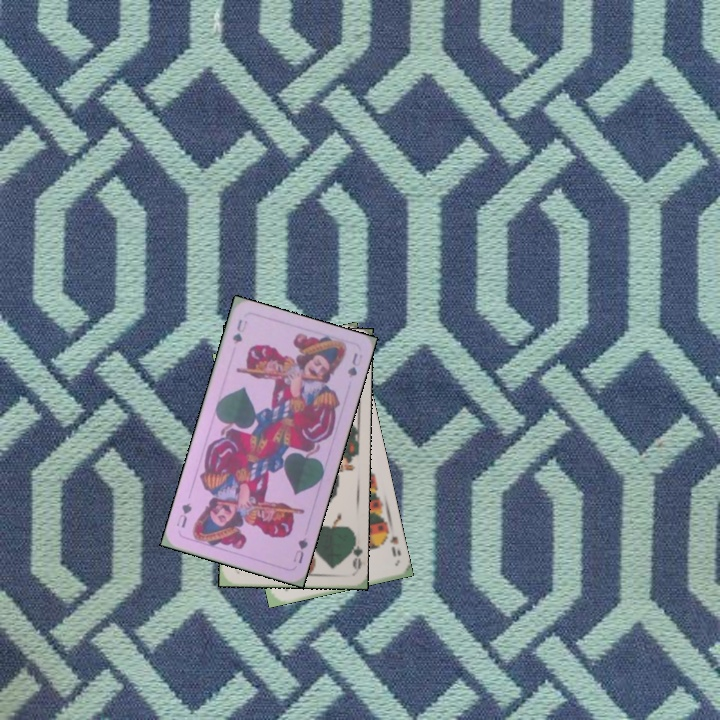GO: (344, 532, 363, 572)
GU: (228, 315, 250, 347), (289, 534, 310, 566)
S9: (379, 523, 401, 559)
